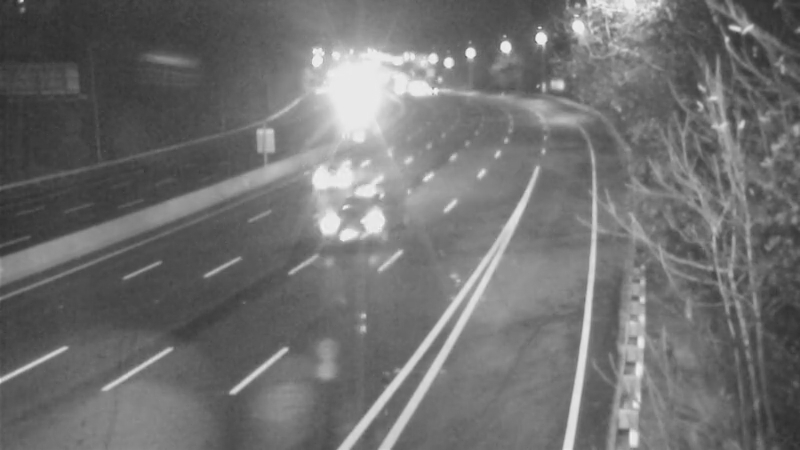vehicle: (296, 135, 376, 215), (312, 181, 392, 261), (405, 66, 455, 116)
